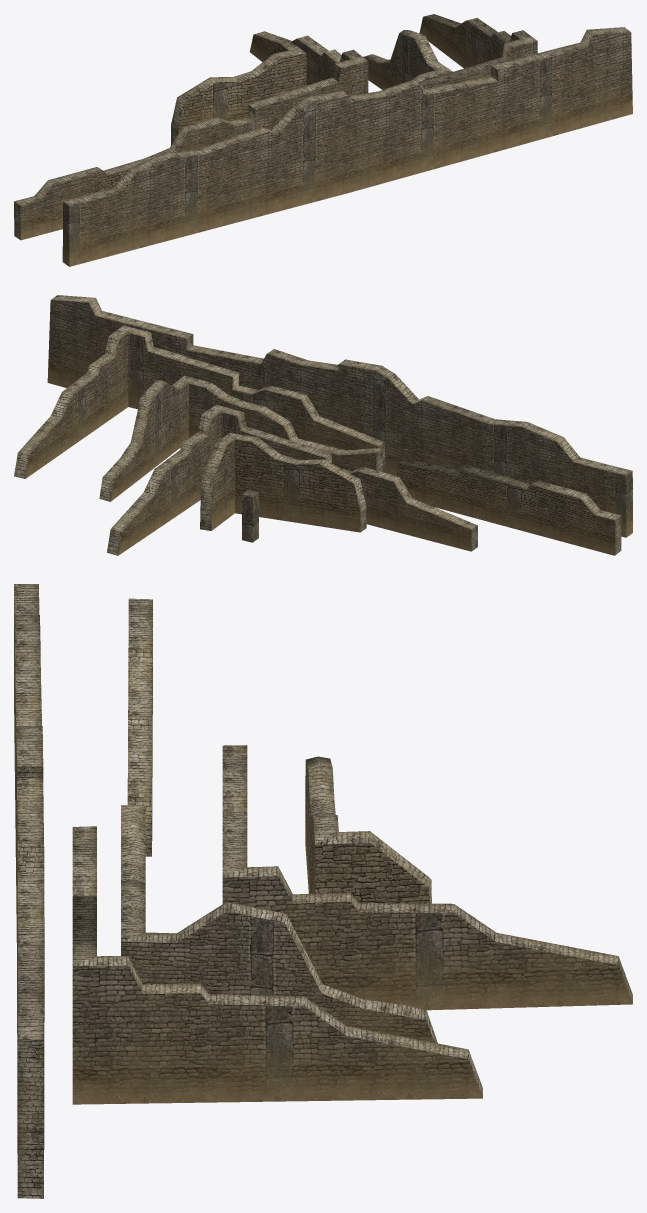
Rendered from ancient_ruins_03_01.FBX.
3 views of the same model, one above another, from view 1: azimuth 30°, elevation 25°; view 2: azimuth 150°, elevation 25°; view 3: azimuth 270°, elevation 25° (orthographic). The views are drawn at different scales.
Visible parts, largest first — view 1: Object072, Object069, Object073, Object076, Object074, Object070; view 2: Object072, Object076, Object069, Object073, Object074, Object070, Object075; view 3: Object076, Object069, Object070, Object072, Object073, Object074.
Boxes of the visible parts, x1,y1,x2,y2 form: Object072: [62, 27, 632, 266]; Object069: [146, 31, 368, 157]; Object073: [171, 42, 306, 145]; Object076: [418, 14, 537, 89]; Object074: [14, 152, 166, 240]; Object070: [363, 30, 452, 89]; Object072: [47, 295, 632, 537]; Object076: [14, 325, 385, 478]; Object069: [107, 404, 477, 555]; Object073: [200, 433, 366, 532]; Object074: [396, 459, 621, 555]; Object070: [99, 375, 382, 501]; Object075: [242, 489, 258, 542]; Object076: [72, 826, 482, 1104]; Object069: [222, 745, 632, 1010]; Object070: [121, 805, 437, 1043]; Object072: [14, 584, 44, 1198]; Object073: [305, 756, 431, 903]; Object074: [127, 598, 152, 856].
Size of the model in its own units: 6912 by 3319 by 1187.
1 material, 1 textured.
